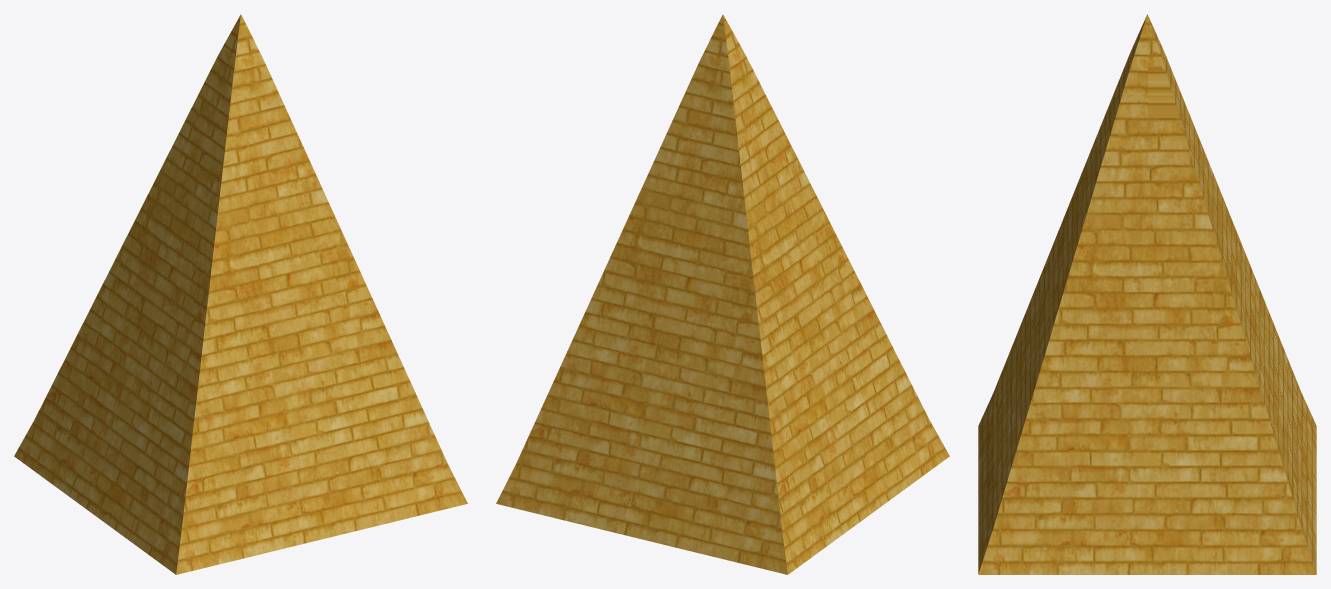
The model's file is Pyramid 512bit.fbx.
The picture shows the model from 3 angles, left to right: view 1: azimuth 30°, elevation 25°; view 2: azimuth 150°, elevation 25°; view 3: azimuth 270°, elevation 25°; orthographic projection. The views are drawn at different scales.
Parts seen in each view (by area): view 1: Pyramid; view 2: Pyramid; view 3: Pyramid.
Part boxes in pixels (x1,y1,x2,y2): Pyramid: (14, 14, 467, 574); Pyramid: (496, 14, 949, 574); Pyramid: (978, 14, 1316, 574).
Size of the model in its own units: 7463 by 11389 by 7181.
Materials: 1 (1 with a texture image).
